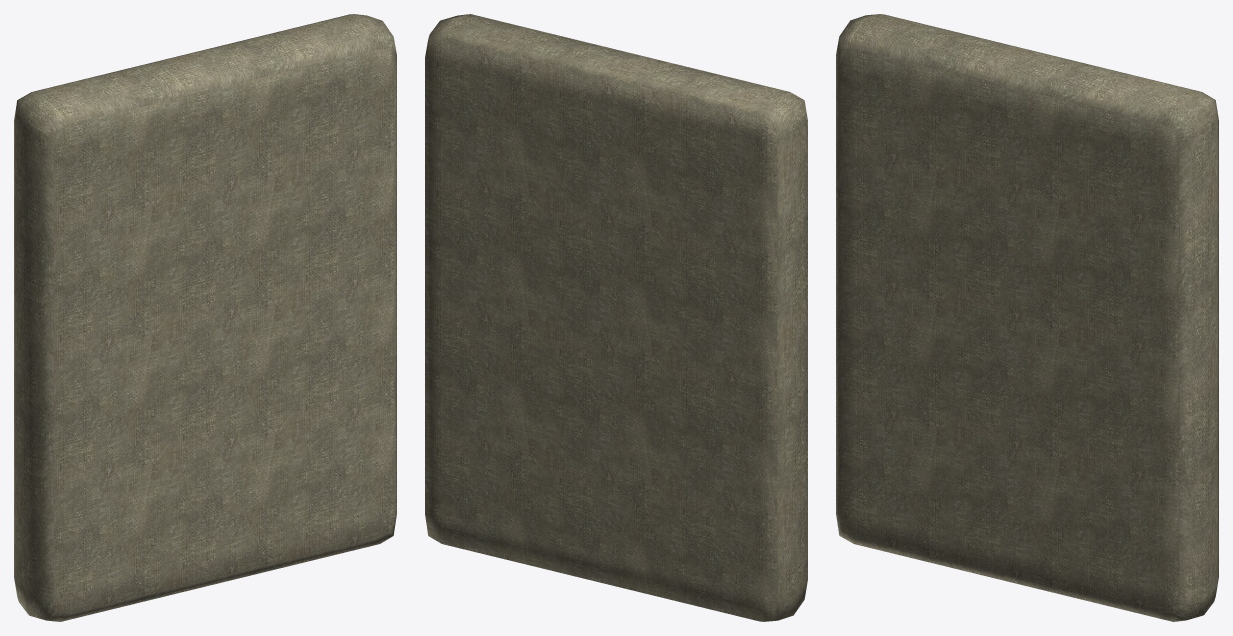
File: furniture_bedmattress1.glb
The picture shows the model from 3 angles, left to right: view 1: azimuth 30°, elevation 25°; view 2: azimuth 150°, elevation 25°; view 3: azimuth 330°, elevation 25°; orthographic projection.
Bounding box in the file's own units: 71.97 × 98.92 × 11.94.
Materials: 2 (2 with a texture image).
